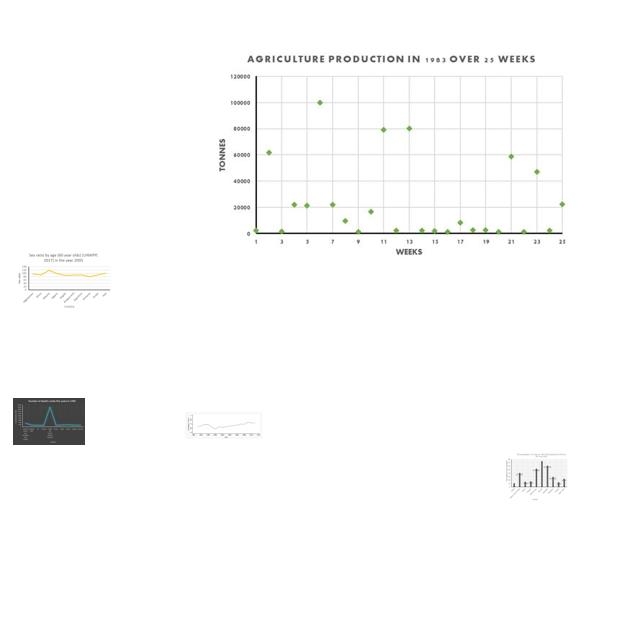Graph: (213, 52, 574, 257), (15, 251, 112, 310), (13, 398, 85, 445), (505, 453, 568, 501), (184, 411, 264, 439)
